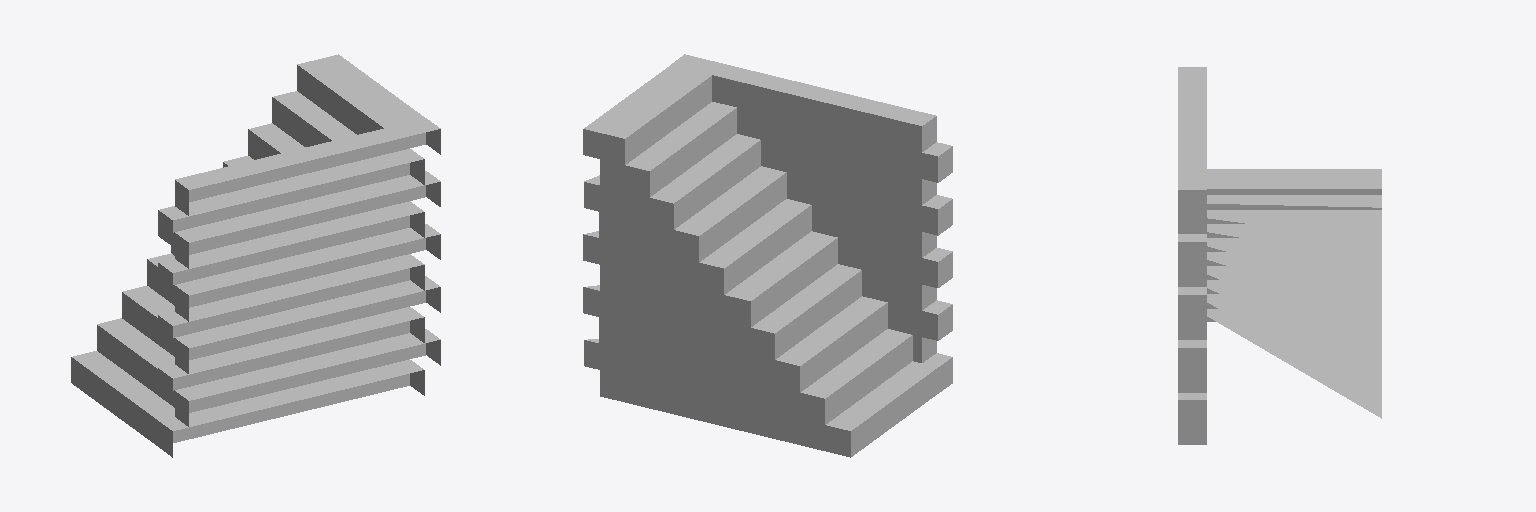
The model's file is Treppe Rechts.obj.
3 views of the same model, side by side, from view 1: azimuth 30°, elevation 25°; view 2: azimuth 150°, elevation 25°; view 3: azimuth 270°, elevation 25° (orthographic).
Parts seen in each view (by area): view 1: Treppe_Rechts.001; view 2: Treppe_Rechts.001; view 3: Treppe_Rechts.001.
Part boxes in pixels (x1,y1,x2,y2): Treppe_Rechts.001: (71,54,440,457); Treppe_Rechts.001: (583,54,952,457); Treppe_Rechts.001: (1178,67,1381,444).
Bounding box in the file's own units: 1.6 × 1.5 × 1.05.